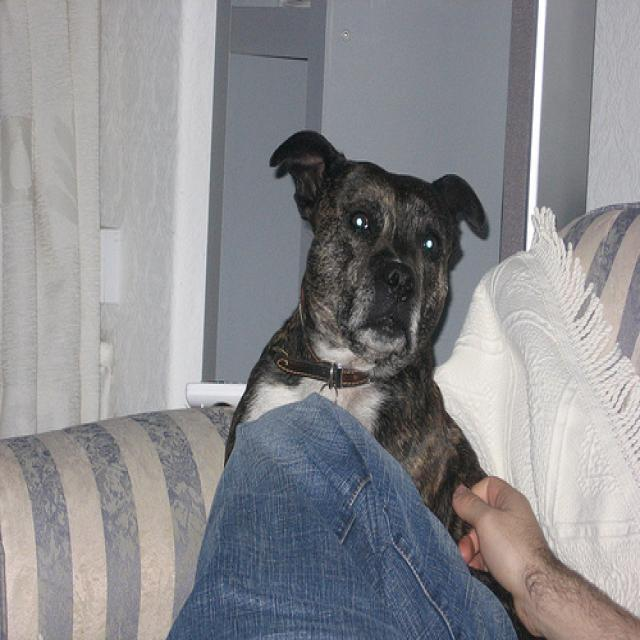dog: (269, 128, 485, 358)
